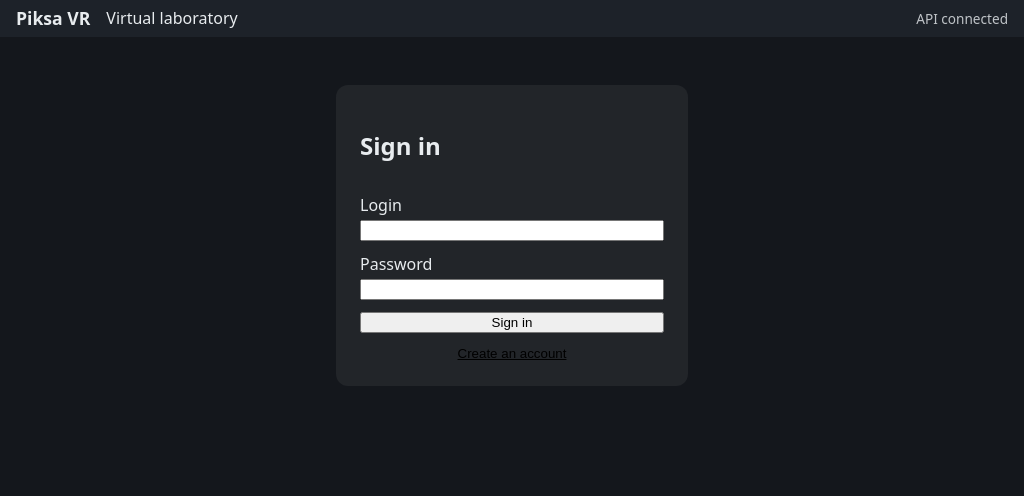
Scenario: register validates password match and handles taken login
The image size is (1024, 496).
Click the button "Create an account" at x=512, y=353, box x1=360 y1=345 x2=664 y2=362
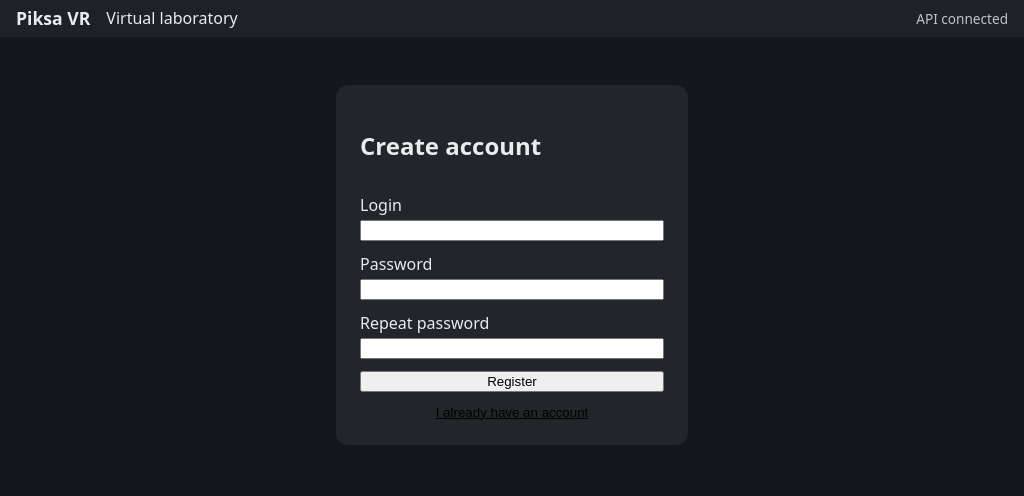
Type "nazar" into the field labelled "Login" at x=512, y=230, box x1=360 y1=220 x2=664 y2=241
Type "secret-pass-1" into the password field labelled "Password" at x=512, y=289, box x1=360 y1=279 x2=664 y2=300
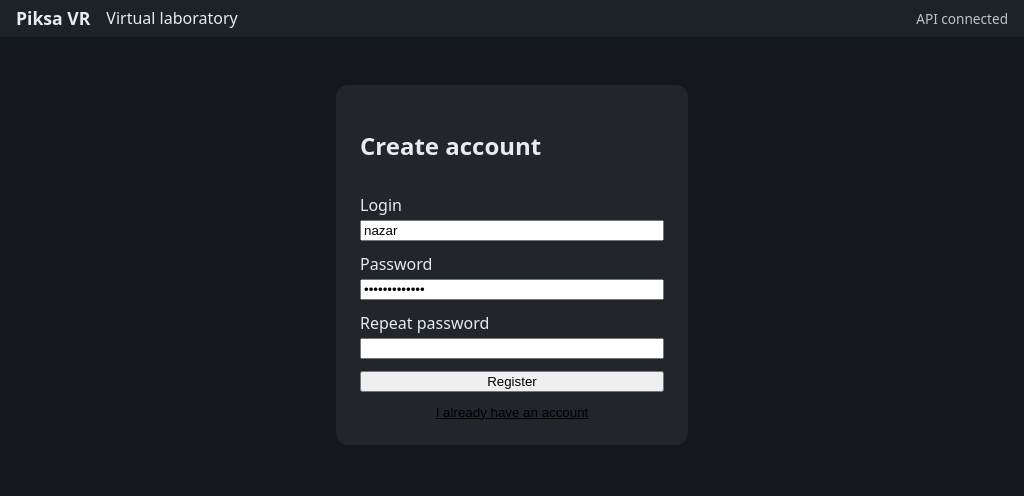
Type "other-pass-1" into the password field labelled "Repeat password" at x=512, y=348, box x1=360 y1=338 x2=664 y2=359
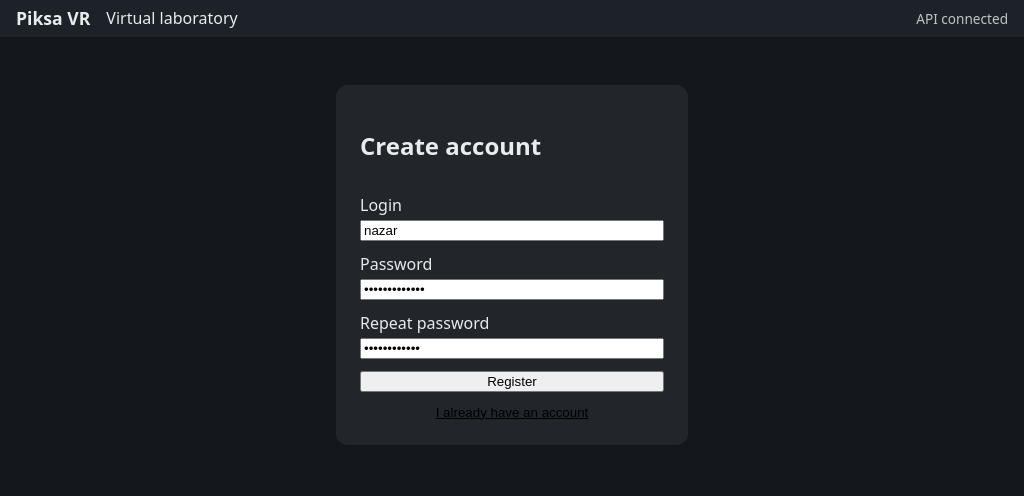
Click the button "Register" at x=512, y=381, box x1=360 y1=371 x2=664 y2=392
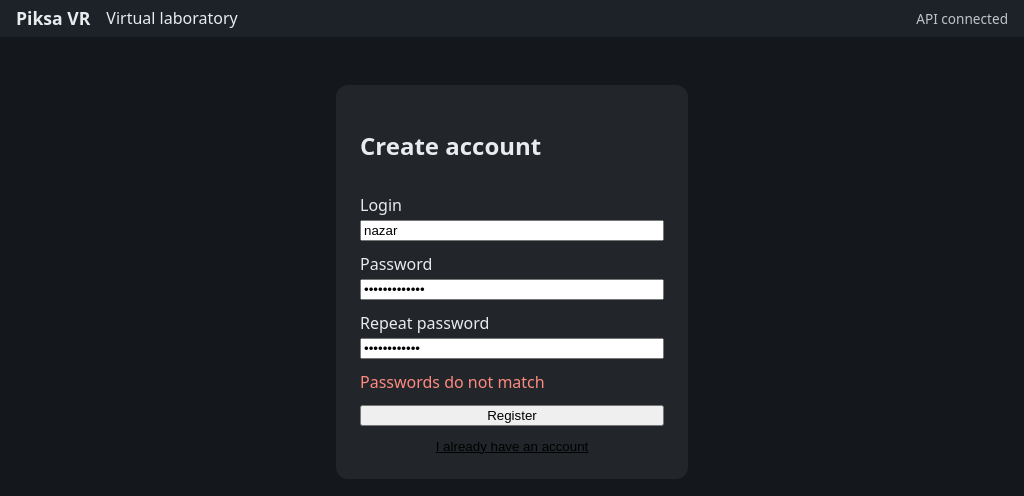
Result: the message "Passwords do not match" is shown at x1=360 y1=371 x2=545 y2=393
Type "secret-pass-1" into the password field labelled "Repeat password" at x=512, y=348, box x1=360 y1=338 x2=664 y2=359
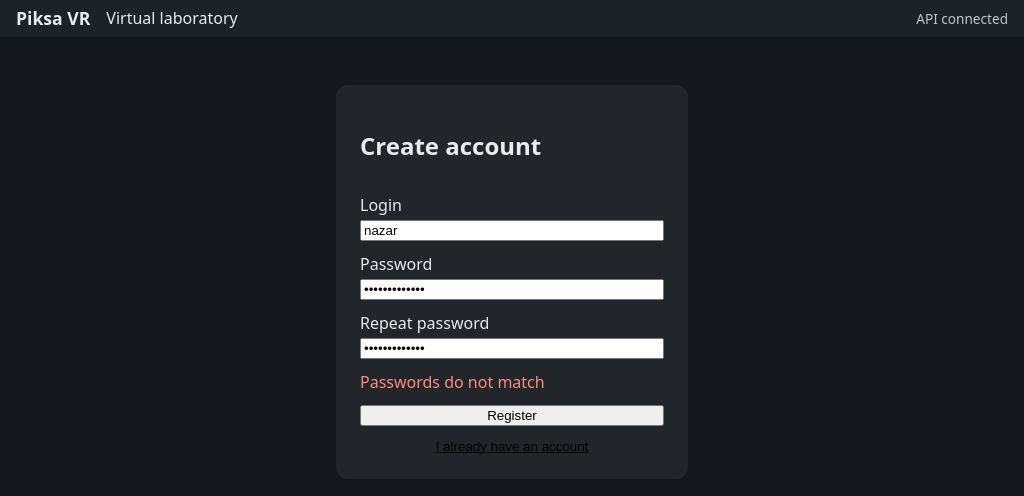
Click the button "Register" at x=512, y=415, box x1=360 y1=405 x2=664 y2=426
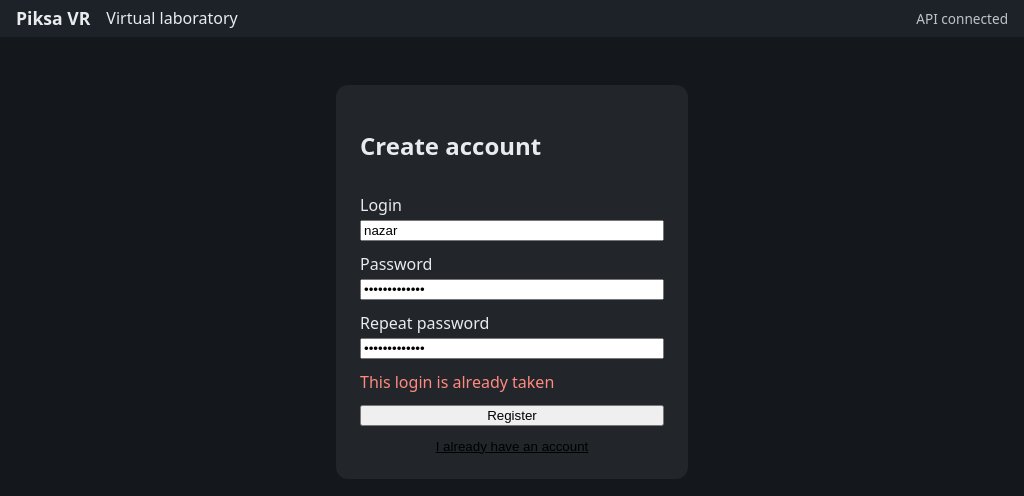
Result: the message "This login is already taken" is shown at x1=360 y1=371 x2=554 y2=393
